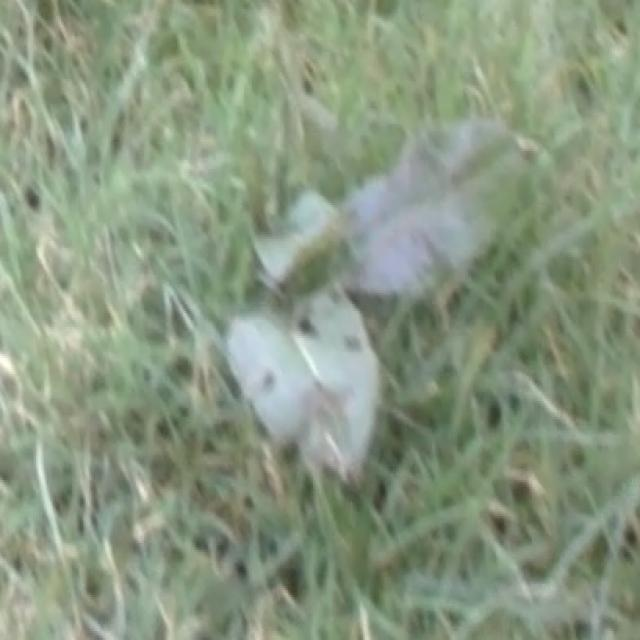organic waste: (169, 89, 600, 481)
